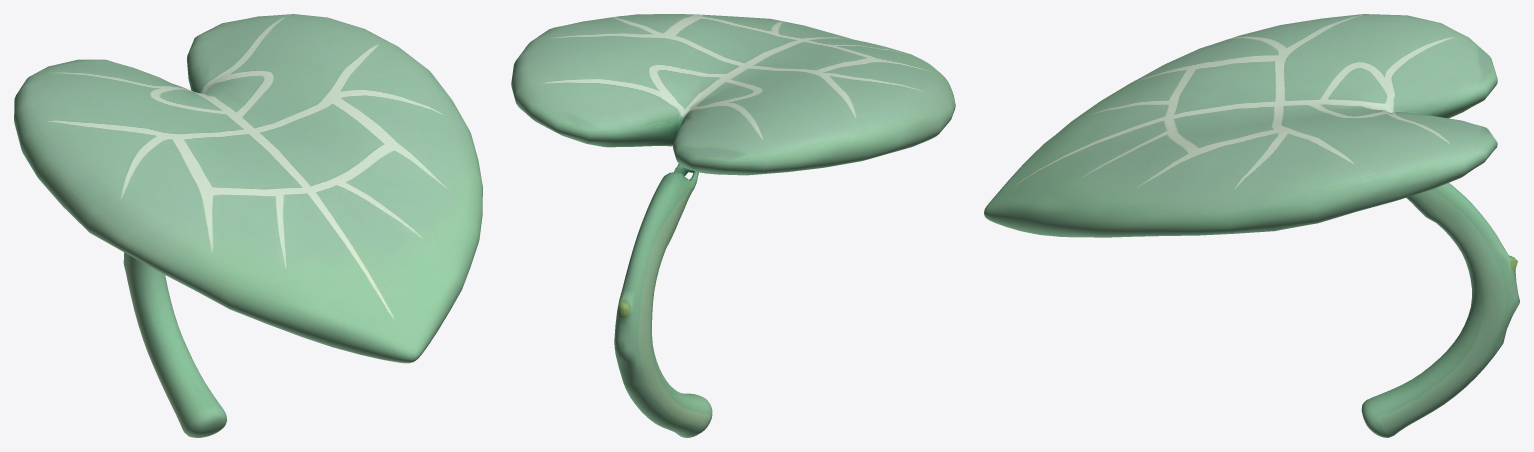
The model's file is pothos_cream_vein.glb.
3 renders of one model, left to right at view 1: azimuth 30°, elevation 25°; view 2: azimuth 150°, elevation 25°; view 3: azimuth 270°, elevation 25°, orthographic. The views are drawn at different scales.
Size of the model in its own units: 1.59 by 1.45 by 2.
Materials: 1 (1 with a texture image).
